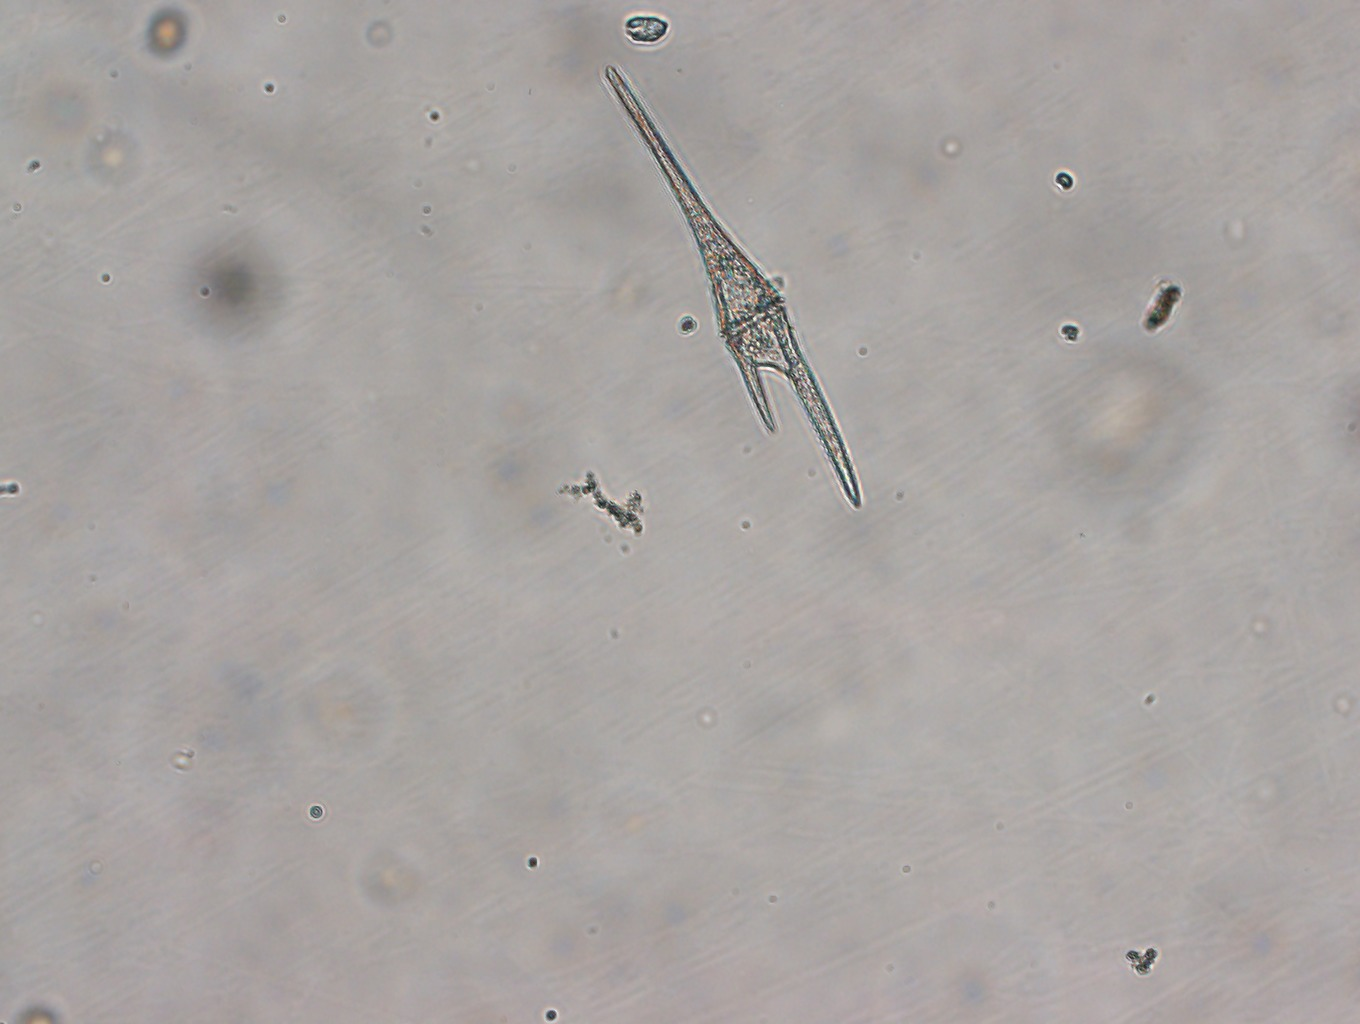ceratium furca: (601, 60, 865, 513)
